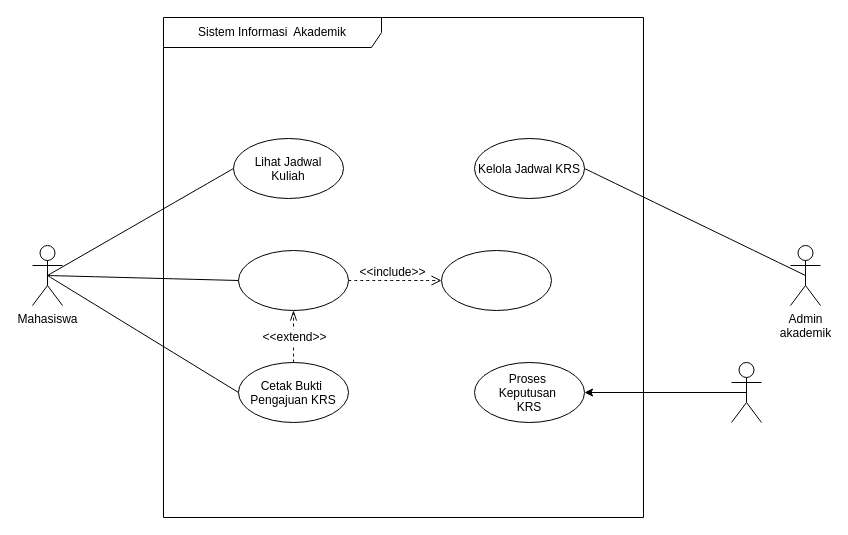
Some shapes in this 848 by 535 pixel diagram are drawn without their labels. The box of each missing label's shape, as (x1, y1, x2, y2) in pixels:
Ajukan KRS: (238, 250, 348, 310)
Dosen: (730, 362, 762, 422)
Validasi KRS: (440, 250, 552, 310)
